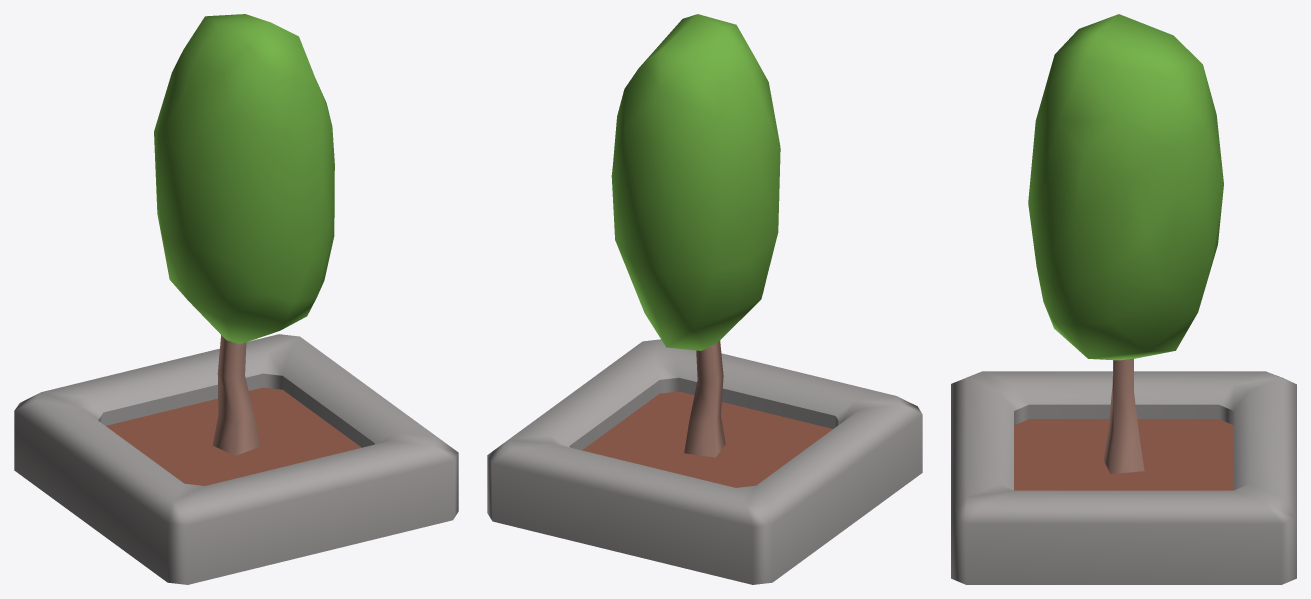
The model's file is bush_003.glb.
3 renders of one model, left to right at view 1: azimuth 30°, elevation 25°; view 2: azimuth 150°, elevation 25°; view 3: azimuth 270°, elevation 25°, orthographic. The views are drawn at different scales.
Parts seen in each view (by area): view 1: bush_003; view 2: bush_003; view 3: bush_003.
Boxes of the visible parts, <box> form: bush_003: <box>14,14,458,584</box>; bush_003: <box>487,14,922,584</box>; bush_003: <box>951,14,1296,584</box>.
Size of the model in its own units: 1.46 by 2.28 by 1.46.
1 material, 1 textured.
